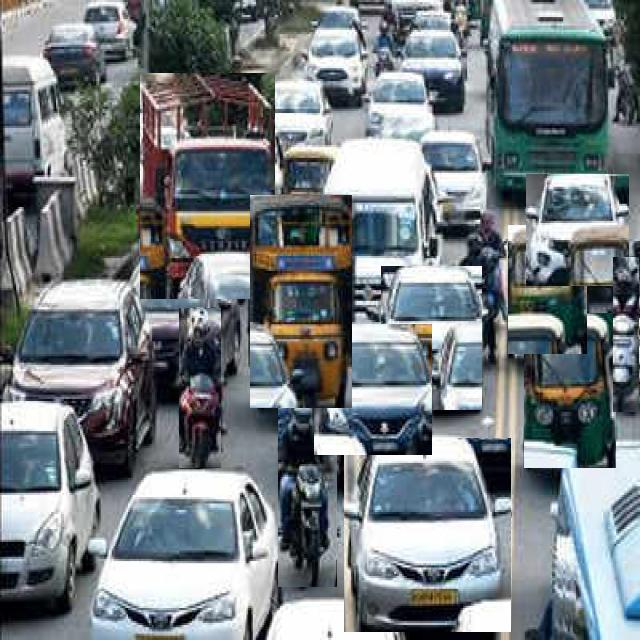autorickshaw: (250, 195, 352, 408), (524, 314, 616, 468), (509, 225, 587, 354)
bus: (486, 0, 609, 202), (324, 140, 438, 314)
car: (344, 439, 511, 632), (91, 472, 281, 638), (10, 280, 155, 474), (0, 403, 101, 612), (314, 325, 432, 455), (381, 266, 482, 410), (526, 175, 629, 286)
motorcycle: (279, 390, 337, 587), (179, 309, 221, 468), (614, 257, 639, 412)
truck: (140, 74, 275, 299)
